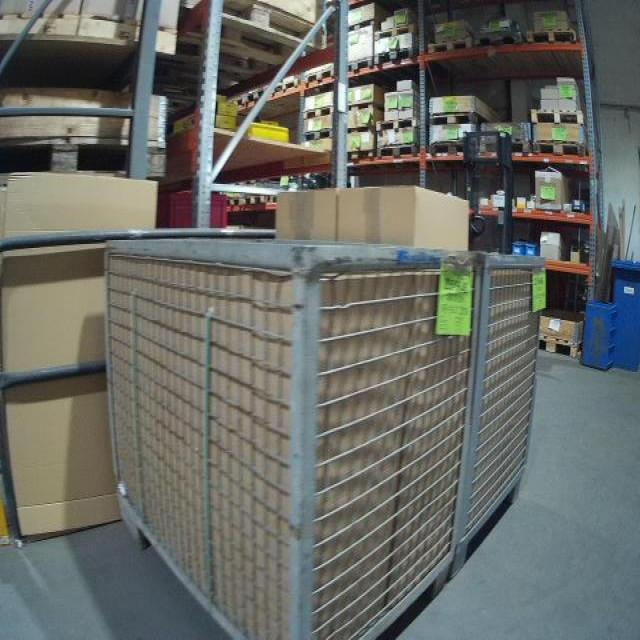pallet: (171, 0, 334, 79), (0, 139, 169, 181), (529, 106, 587, 127), (524, 24, 576, 47), (532, 138, 590, 157), (539, 334, 582, 358), (427, 36, 472, 58), (477, 138, 531, 156), (427, 112, 484, 129), (474, 31, 522, 49), (374, 23, 416, 43), (372, 48, 415, 67), (375, 115, 417, 134), (270, 75, 303, 98), (427, 140, 470, 156), (303, 68, 334, 89), (375, 144, 418, 159), (345, 99, 383, 115), (343, 55, 373, 75), (301, 103, 333, 121), (304, 126, 334, 144), (347, 18, 377, 34), (246, 85, 270, 103), (345, 147, 375, 160), (345, 123, 373, 135)
pallet_truck: (456, 120, 535, 259)
small_load_carrier: (152, 187, 228, 232)
stillage: (101, 239, 484, 639), (452, 254, 546, 581)
